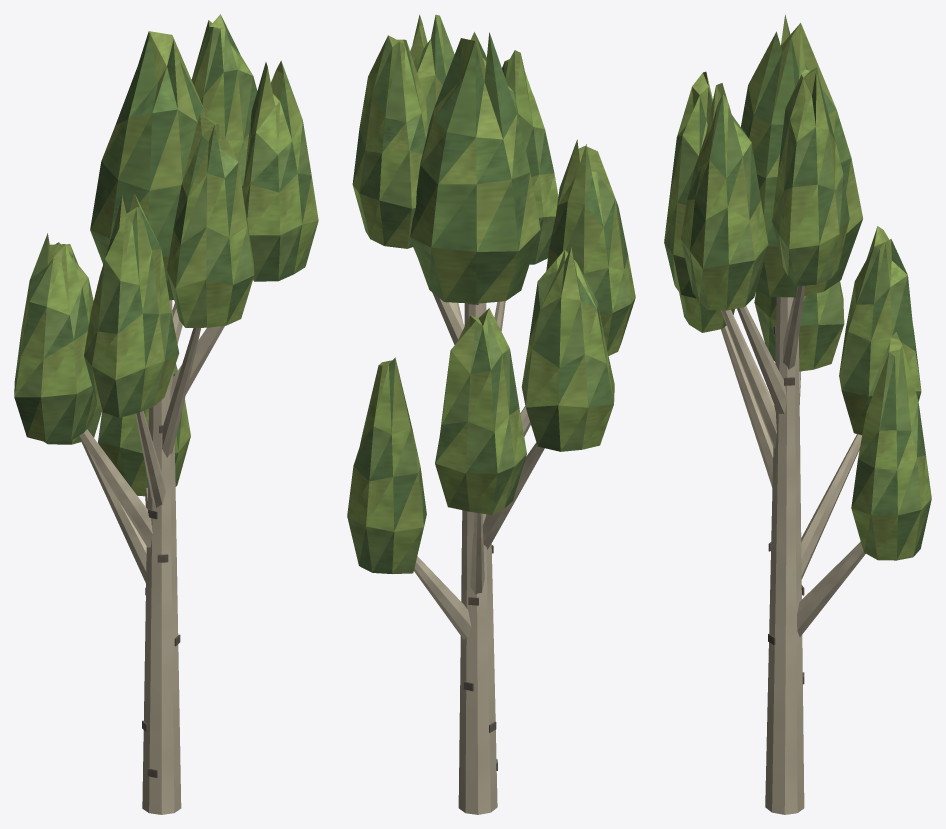
File: tree_birch_03.fbx
3 views of the same model, side by side, from view 1: azimuth 30°, elevation 25°; view 2: azimuth 150°, elevation 25°; view 3: azimuth 270°, elevation 25° (orthographic).
Parts seen in each view (by area): view 1: tree_birch_03; view 2: tree_birch_03; view 3: tree_birch_03.
Boxes of the visible parts, x1,y1,x2,y2 form: tree_birch_03: (14,14,318,814); tree_birch_03: (347,14,635,814); tree_birch_03: (664,14,931,814).
Size of the model in its own units: 464 by 1330 by 410.
Materials: 1 (1 with a texture image).
